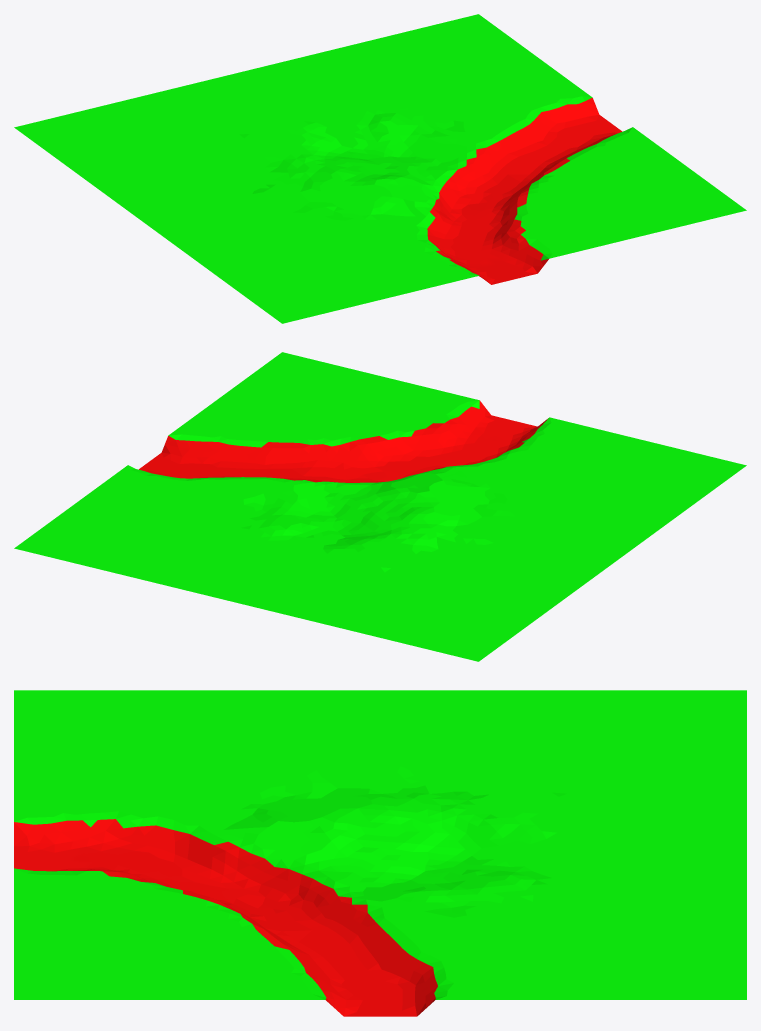
Rendered from RiverAngle01.fbx.
3 renders of one model, top to bottom at view 1: azimuth 30°, elevation 25°; view 2: azimuth 150°, elevation 25°; view 3: azimuth 270°, elevation 25°, orthographic. The views are drawn at different scales.
Visible parts, largest first — view 1: RiverAngle01; view 2: RiverAngle01; view 3: RiverAngle01.
Part boxes in pixels (x1=…): RiverAngle01: x1=14, y1=14, x2=746, y2=323; RiverAngle01: x1=14, y1=352, x2=746, y2=661; RiverAngle01: x1=14, y1=690, x2=746, y2=1016.
Size of the model in its own units: 5009 by 243 by 5009.
